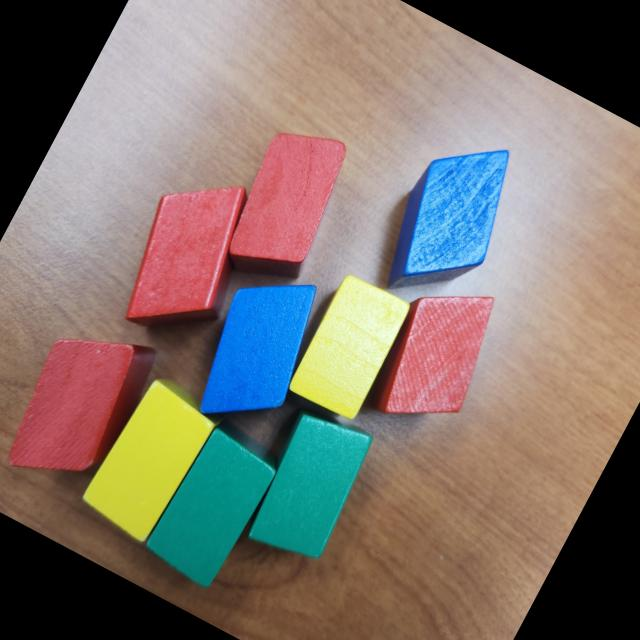blue: (364, 118, 536, 322), (176, 254, 340, 446)
green: (136, 412, 288, 596), (234, 398, 384, 574)
red: (102, 154, 276, 356), (0, 305, 167, 508), (357, 263, 515, 445), (212, 111, 362, 292)
yellow: (76, 369, 226, 549), (283, 270, 416, 424)
